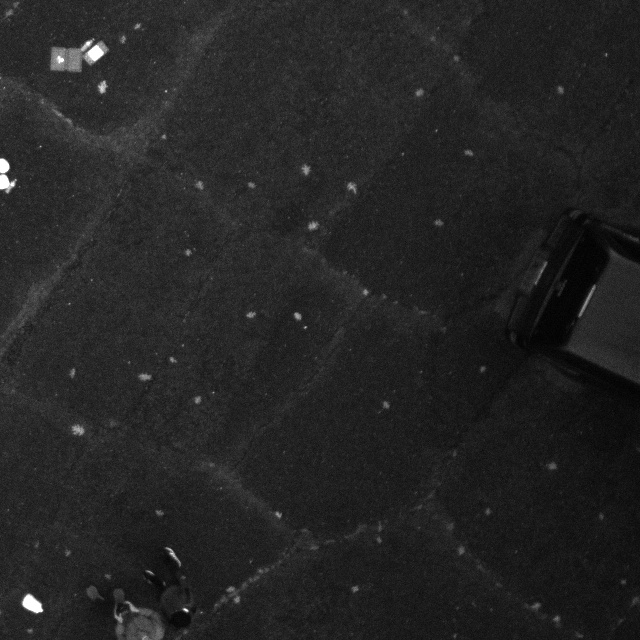bottle: (79, 37, 98, 52)
container: (48, 43, 84, 74), (80, 40, 111, 66)
